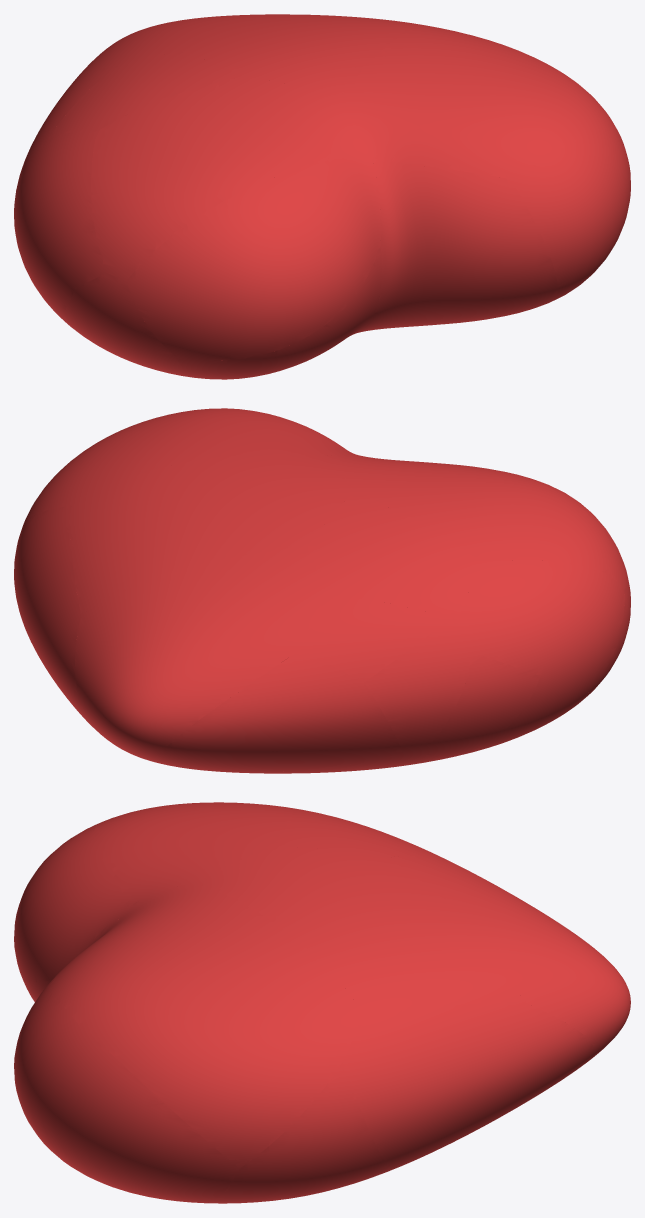
The model's file is HeartShattered.fbx.
3 renders of one model, top to bottom at view 1: azimuth 30°, elevation 25°; view 2: azimuth 150°, elevation 25°; view 3: azimuth 270°, elevation 25°, orthographic. The views are drawn at different scales.
Visible parts, largest first — view 1: Heart, Heart_cell.002, Heart_cell.016, Heart_cell.007, Heart_cell.015, Heart_cell.019, Heart_cell.011, Heart_cell.006, Heart_cell, Heart_cell.004, Heart_cell.005, Heart_cell.008 (+2 smaller); view 2: Heart, Heart_cell.004, Heart_cell.010, Heart_cell.016, Heart_cell.011, Heart_cell.006, Heart_cell.019, Heart_cell.017, Heart_cell.012, Heart_cell.013, Heart_cell.003, Heart_cell.005 (+2 smaller); view 3: Heart, Heart_cell.015, Heart_cell.017, Heart_cell.011, Heart_cell.008, Heart_cell.004, Heart_cell.018, Heart_cell.016, Heart_cell.006, Heart_cell.002.
Part boxes in pixels (<box>): Heart: <box>14,14,630,378</box>; Heart_cell.002: <box>127,150,380,360</box>; Heart_cell.016: <box>91,77,361,280</box>; Heart_cell.007: <box>357,158,557,332</box>; Heart_cell.015: <box>342,26,615,178</box>; Heart_cell.019: <box>16,132,106,284</box>; Heart_cell.011: <box>185,17,431,95</box>; Heart_cell.006: <box>51,52,241,136</box>; Heart_cell: <box>63,273,201,378</box>; Heart_cell.004: <box>80,15,245,76</box>; Heart_cell.005: <box>17,233,76,319</box>; Heart_cell.008: <box>516,127,630,299</box>; Heart: <box>14,408,630,773</box>; Heart_cell.004: <box>75,546,325,761</box>; Heart_cell.010: <box>159,650,401,771</box>; Heart_cell.016: <box>341,455,626,589</box>; Heart_cell.011: <box>70,453,352,613</box>; Heart_cell.006: <box>307,493,478,615</box>; Heart_cell.019: <box>459,560,624,675</box>; Heart_cell.017: <box>14,506,108,740</box>; Heart_cell.012: <box>365,617,472,751</box>; Heart_cell.013: <box>304,594,443,682</box>; Heart_cell.003: <box>421,655,540,757</box>; Heart_cell.005: <box>454,629,620,756</box>; Heart: <box>14,808,630,1203</box>; Heart_cell.015: <box>50,885,362,1168</box>; Heart_cell.017: <box>343,1001,593,1169</box>; Heart_cell.011: <box>202,847,520,1011</box>; Heart_cell.008: <box>33,993,239,1202</box>; Heart_cell.004: <box>387,856,630,1054</box>; Heart_cell.018: <box>204,1061,392,1203</box>; Heart_cell.016: <box>94,802,296,904</box>; Heart_cell.006: <box>278,809,434,857</box>; Heart_cell.002: <box>14,827,128,982</box>.
Bounding box in the file's own units: 2125 × 914 × 1991.
